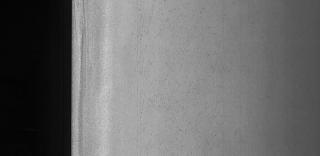silk spot: (119, 0, 211, 122)
